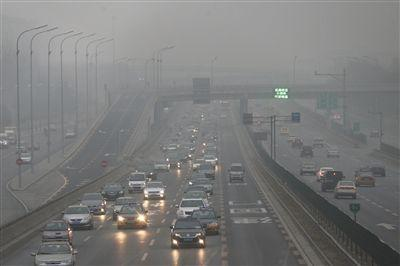bus: (252, 125, 267, 141), (242, 111, 254, 125), (291, 111, 301, 122)
car: (29, 241, 79, 266), (169, 217, 207, 248), (40, 220, 73, 248), (187, 208, 221, 235), (115, 203, 149, 229), (175, 197, 207, 222), (61, 206, 93, 229), (111, 197, 141, 221), (77, 193, 109, 215), (182, 191, 213, 212), (319, 170, 343, 191), (142, 182, 168, 200), (101, 183, 126, 201), (127, 172, 148, 193), (334, 180, 357, 199), (185, 185, 208, 204), (190, 178, 214, 196), (134, 163, 158, 181), (195, 162, 217, 180), (353, 171, 377, 187), (227, 163, 246, 182), (187, 172, 210, 187), (367, 161, 387, 176), (164, 152, 182, 168), (298, 162, 318, 176), (316, 167, 334, 182), (153, 158, 172, 172), (201, 155, 218, 169), (4, 128, 17, 146), (299, 144, 314, 158), (192, 159, 207, 172), (291, 135, 304, 148), (18, 152, 32, 164), (312, 137, 325, 148), (327, 148, 340, 158), (286, 133, 297, 144), (167, 144, 179, 154), (1, 132, 9, 147), (65, 128, 75, 137)
